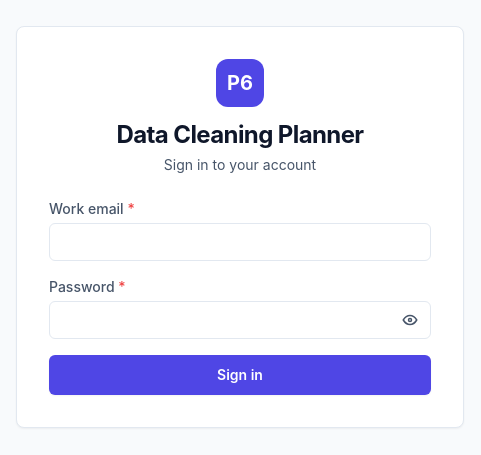
Test: LoginPage validation › rejects a password shorter than 12 characters
Type "engineer@example.com" into the field labelled "Work email *".
click(240, 242); type("engineer@example.com")  # box [49, 223, 431, 261]
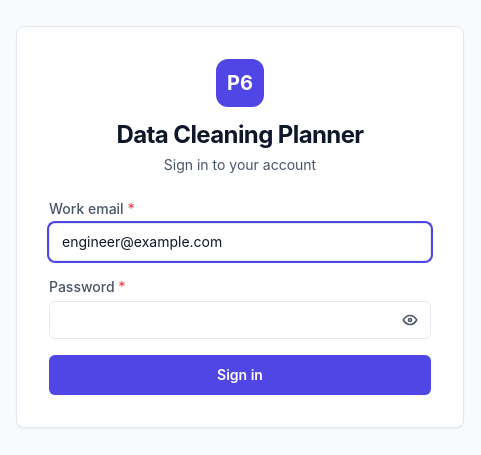
Type "short" into the password field labelled "Password *".
click(240, 320); type("short")  # box [49, 301, 431, 339]
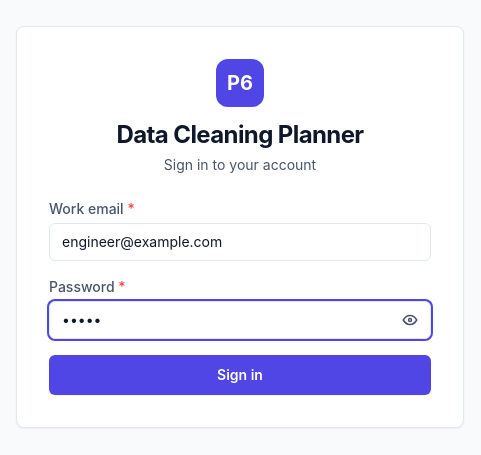
Click the button "Sign in".
click(240, 375)  # box [49, 355, 431, 395]
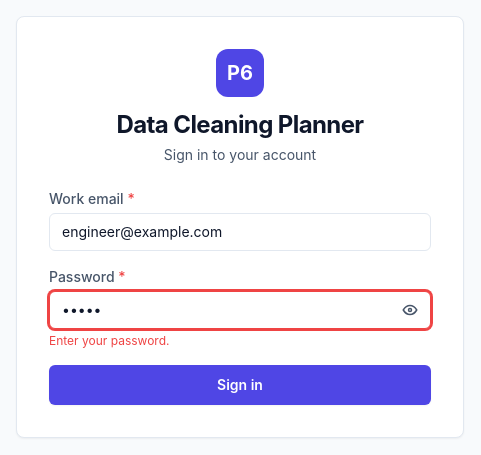
Check: the text "Enter your password." is shown, box [49, 333, 170, 348]
